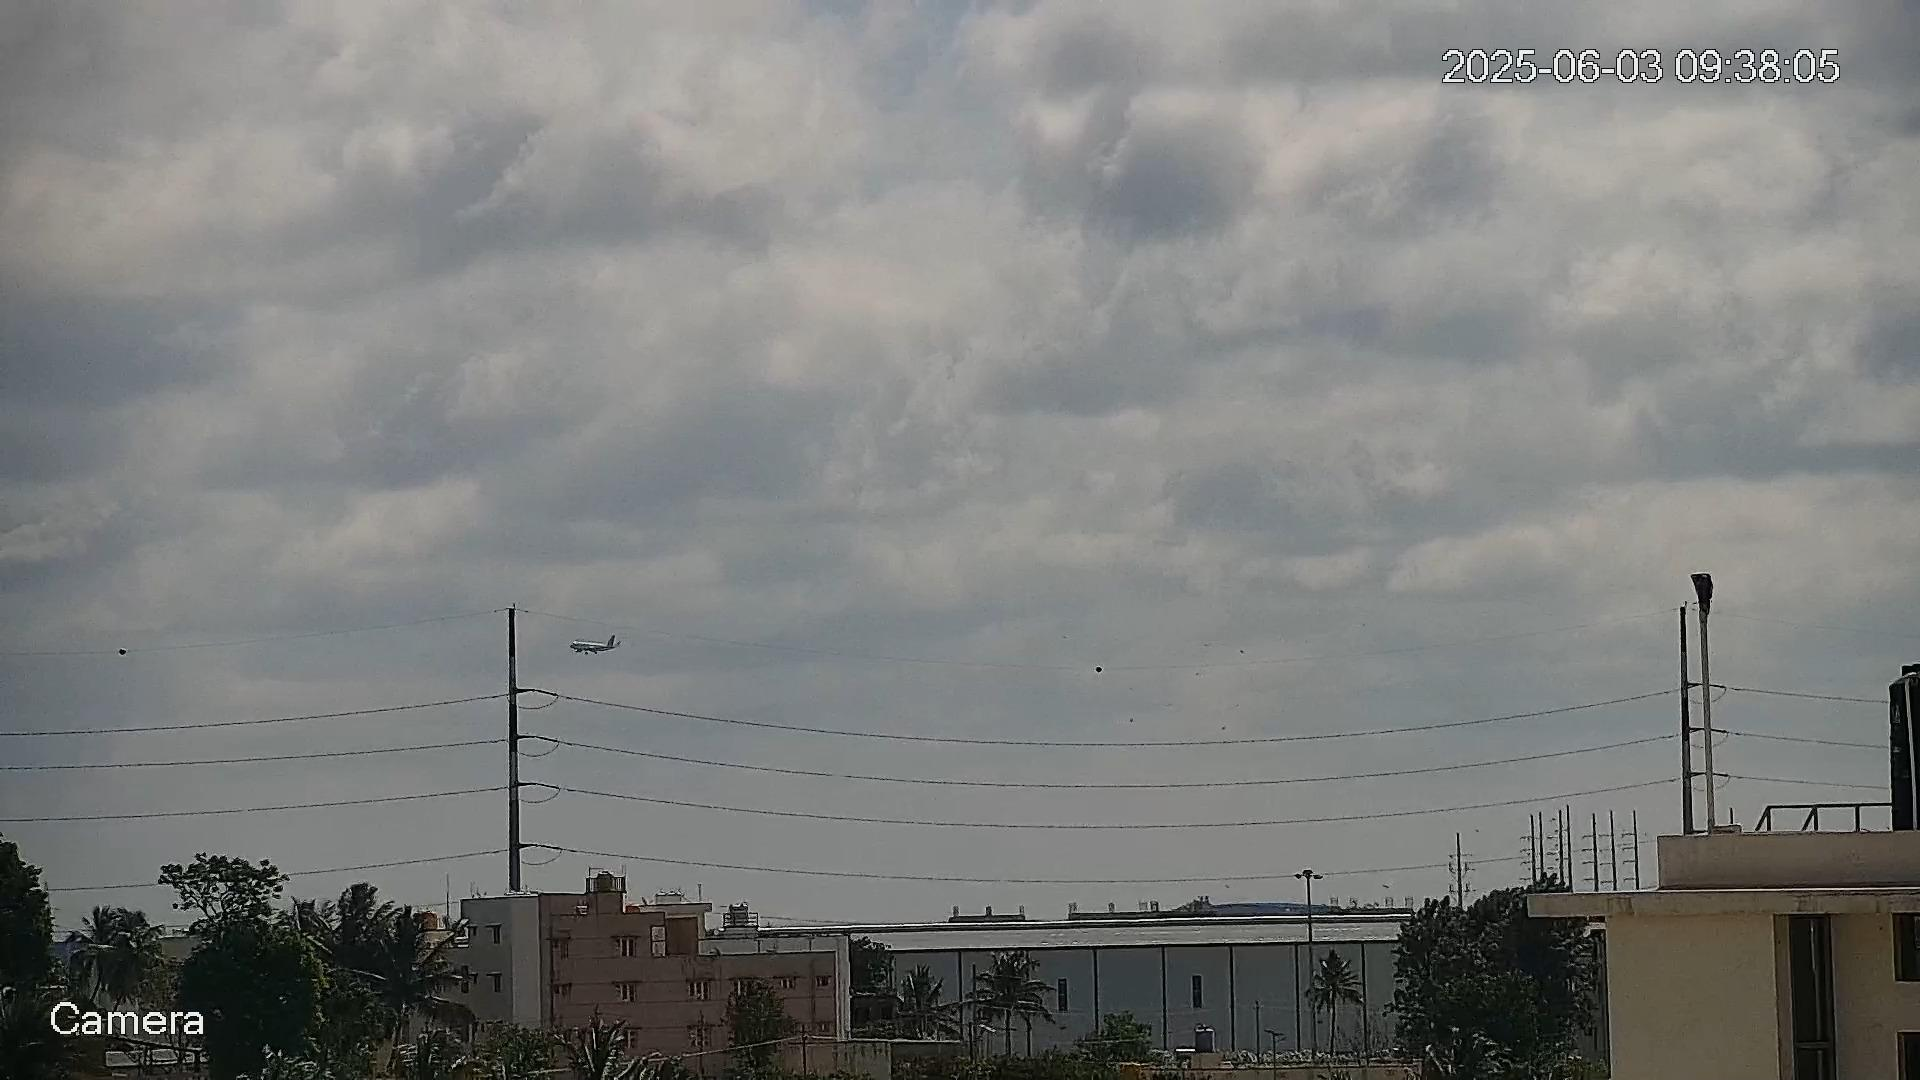Aircraft: (570, 633, 621, 654)
